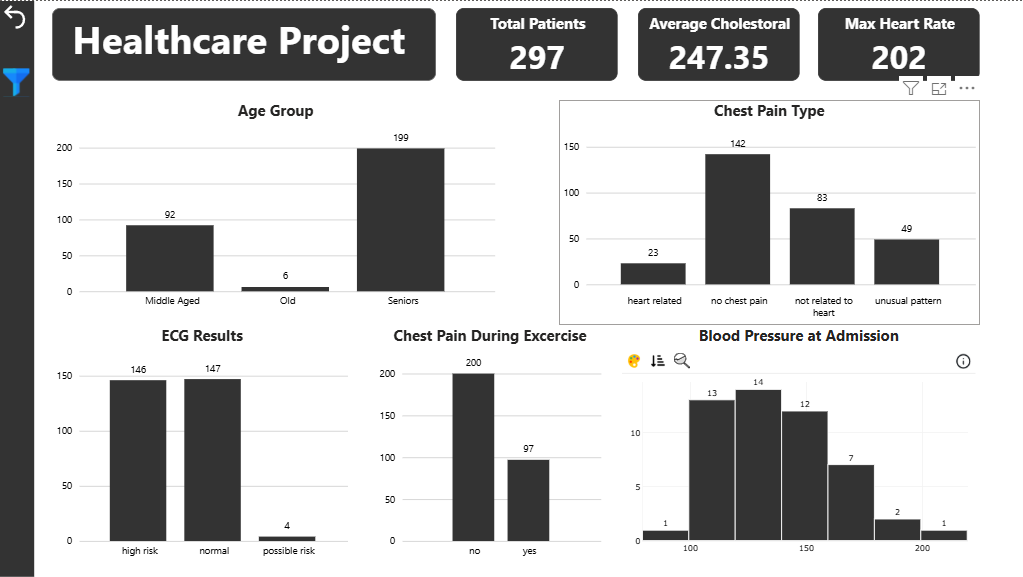

The dashboard page shown, as its layout file describes it:
{"tool":"powerbi","page":{"name":"Page 1","canvas":[1280,720],"ordinal":0},"visuals":[{"type":"textbox","box":[66.7,8.6,480.2,91.4],"z":0},{"type":"card","title":"Total Patients","fields":{"Values":["Healthcare_Cleaned_Dataset.Total Patients"]},"box":[571.6,8.6,202.5,91.4],"z":1000},{"type":"card","title":"Average Cholestoral","fields":{"Values":["Avg(Healthcare_Cleaned_Dataset.cholestoral)"]},"box":[798.8,8.6,202.5,91.4],"z":2000},{"type":"shape","box":[0,0,44.4,719.8],"z":4000},{"type":"card","title":"Max Heart Rate","fields":{"Values":["Max(Healthcare_Cleaned_Dataset.max_heart_rate)"]},"box":[1023.5,8.6,202.5,91.4],"z":6000},{"type":"actionButton","box":[0,0,44.4,39.5],"z":7000},{"type":"clusteredColumnChart","title":"Age Group ","fields":{"Category":["Healthcare_Cleaned_Dataset.age_group"],"Y":["Healthcare_Cleaned_Dataset.Total Patients"]},"box":[66.7,123.5,559.3,269.1],"z":10000},{"type":"clusteredColumnChart","title":"Chest Pain Type","fields":{"Category":["Healthcare_Cleaned_Dataset.chest_pain_type"],"Y":["Healthcare_Cleaned_Dataset.Total Patients"]},"box":[700,123.5,525.9,281.5],"z":11000},{"type":"clusteredColumnChart","title":"ECG Results","fields":{"Category":["Healthcare_Cleaned_Dataset.ecg_results"],"Y":["Healthcare_Cleaned_Dataset.Total Patients"]},"box":[66.7,404.9,375.3,300],"z":12000},{"type":"clusteredColumnChart","title":"Chest Pain During Excercise","fields":{"Category":["Healthcare_Cleaned_Dataset.chest_pain_during_excercise"],"Y":["Healthcare_Cleaned_Dataset.Total Patients"]},"box":[470.4,404.9,287.7,300],"z":13000},{"type":"actionButton","box":[0,80.2,44.4,43.2],"z":13375},{"type":"histogramF963F133BA02A0B35D286F09F80E9C78","title":"Blood Pressure at Admission","fields":{"col_2":["Healthcare_Cleaned_Dataset.bp_at_admission"]},"box":[774.1,404.9,451.9,300],"z":14001}]}

Visuals, with their boxes on the page's 1280x720 design canvas (x1, y1, x2, y2). These are canvas units, not pixel positions in the 1023x577 screenshot, which may show the page scaled, cropped or inside an application window:
textbox: (x1=67, y1=9, x2=547, y2=100)
"Total Patients" card: (x1=572, y1=9, x2=774, y2=100)
"Average Cholestoral" card: (x1=799, y1=9, x2=1001, y2=100)
shape: (x1=0, y1=0, x2=44, y2=720)
"Max Heart Rate" card: (x1=1024, y1=9, x2=1226, y2=100)
actionButton: (x1=0, y1=0, x2=44, y2=40)
"Age Group " clusteredColumnChart: (x1=67, y1=124, x2=626, y2=393)
"Chest Pain Type" clusteredColumnChart: (x1=700, y1=124, x2=1226, y2=405)
"ECG Results" clusteredColumnChart: (x1=67, y1=405, x2=442, y2=705)
"Chest Pain During Excercise" clusteredColumnChart: (x1=470, y1=405, x2=758, y2=705)
actionButton: (x1=0, y1=80, x2=44, y2=123)
"Blood Pressure at Admission" histogramF963F133BA02A0B35D286F09F80E9C78: (x1=774, y1=405, x2=1226, y2=705)
